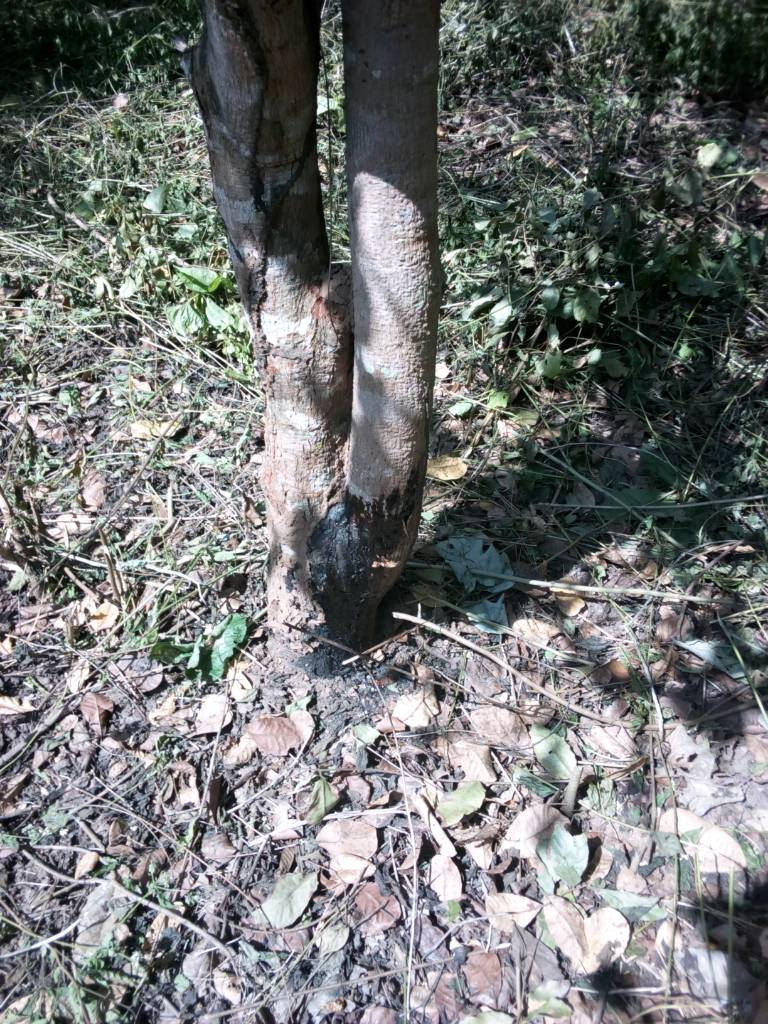Termites: (236, 69, 352, 661)
